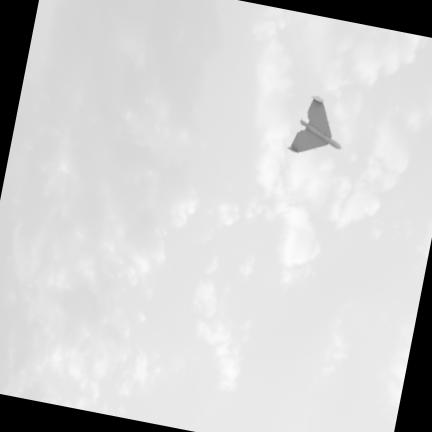Shahed: (286, 95, 341, 154)
